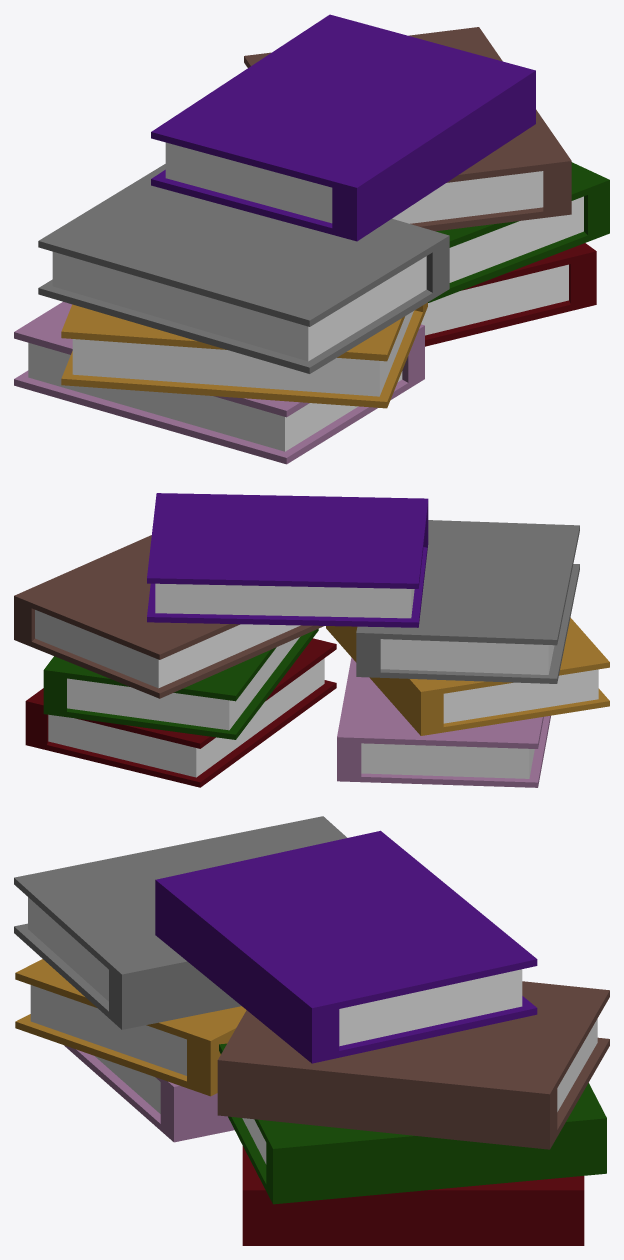
Rendered from book_pile2.fbx.
3 views of the same model, one above another, from view 1: azimuth 30°, elevation 25°; view 2: azimuth 150°, elevation 25°; view 3: azimuth 270°, elevation 25° (orthographic). The views are drawn at different scales.
Visible parts, largest first — view 1: Cube; view 2: Cube; view 3: Cube.
Boxes of the visible parts, box(x1,y1,x2,y2) form: Cube: box(14, 14, 609, 464); Cube: box(14, 493, 609, 787); Cube: box(14, 816, 609, 1245).
Size of the model in its own units: 909 by 329 by 794.
